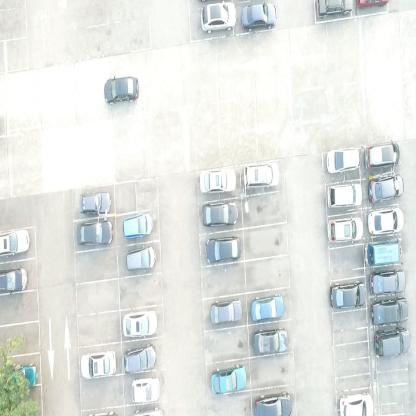car: (210, 363, 246, 396), (374, 326, 412, 357), (370, 296, 408, 327), (121, 342, 157, 374), (200, 2, 236, 34), (369, 267, 406, 298), (241, 2, 278, 33), (329, 280, 367, 310), (104, 74, 139, 106), (364, 237, 400, 267), (252, 326, 288, 356), (205, 235, 241, 265), (122, 308, 158, 338), (81, 350, 117, 380), (200, 166, 237, 195), (368, 173, 403, 203), (368, 206, 404, 235), (250, 293, 286, 322), (243, 161, 280, 189), (326, 145, 361, 174), (364, 142, 400, 170), (209, 297, 242, 327), (76, 221, 114, 247), (253, 391, 292, 416), (0, 228, 30, 260), (327, 183, 363, 209), (327, 217, 363, 243), (202, 200, 238, 226), (339, 391, 375, 416), (2, 363, 38, 387), (126, 245, 156, 273), (122, 211, 153, 238), (78, 190, 112, 214), (132, 378, 162, 404), (315, 0, 353, 20), (0, 267, 28, 293)
